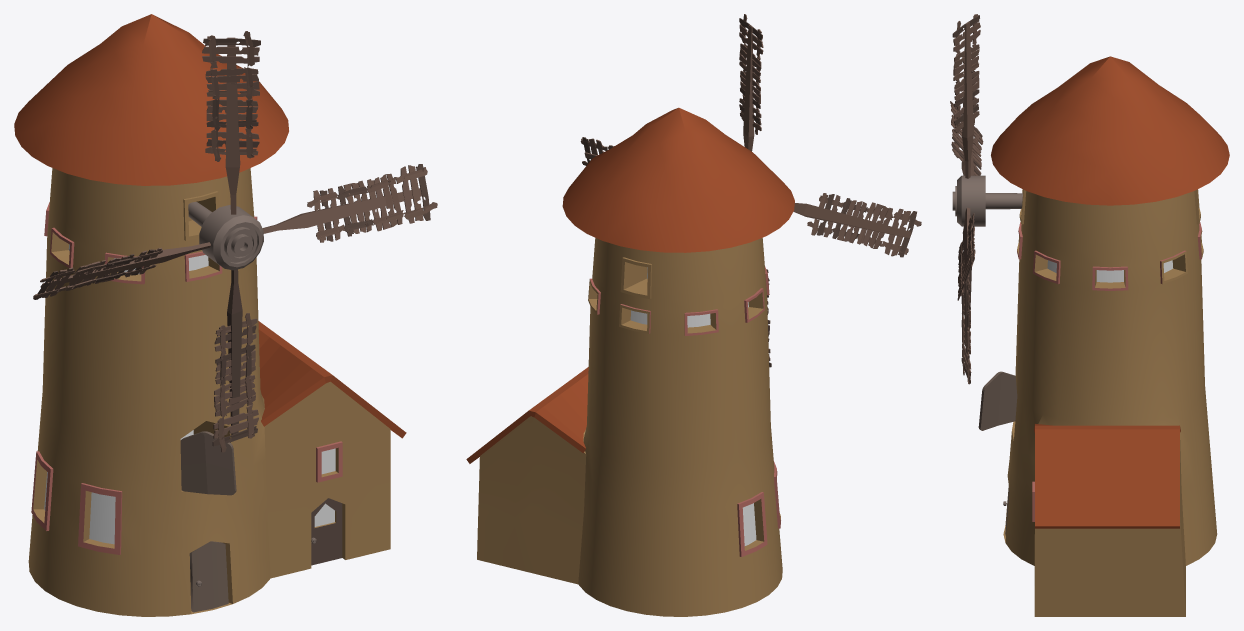
File: Molino_low.fbx
The picture shows the model from 3 angles, left to right: view 1: azimuth 30°, elevation 25°; view 2: azimuth 150°, elevation 25°; view 3: azimuth 270°, elevation 25°; orthographic projection. The views are drawn at different scales.
Parts seen in each view (by area): view 1: Cylinder, Cylinder.004, Cylinder.005; view 2: Cylinder, Cylinder.004; view 3: Cylinder, Cylinder.004.
Boxes of the visible parts, x1,y1,x2,y2 form: Cylinder: [14, 14, 406, 616]; Cylinder.004: [33, 31, 437, 452]; Cylinder.005: [189, 541, 228, 612]; Cylinder: [466, 107, 794, 616]; Cylinder.004: [580, 14, 921, 367]; Cylinder: [978, 56, 1229, 616]; Cylinder.004: [950, 14, 1022, 384].
Size of the model in its own units: 1438 by 1993 by 978.
